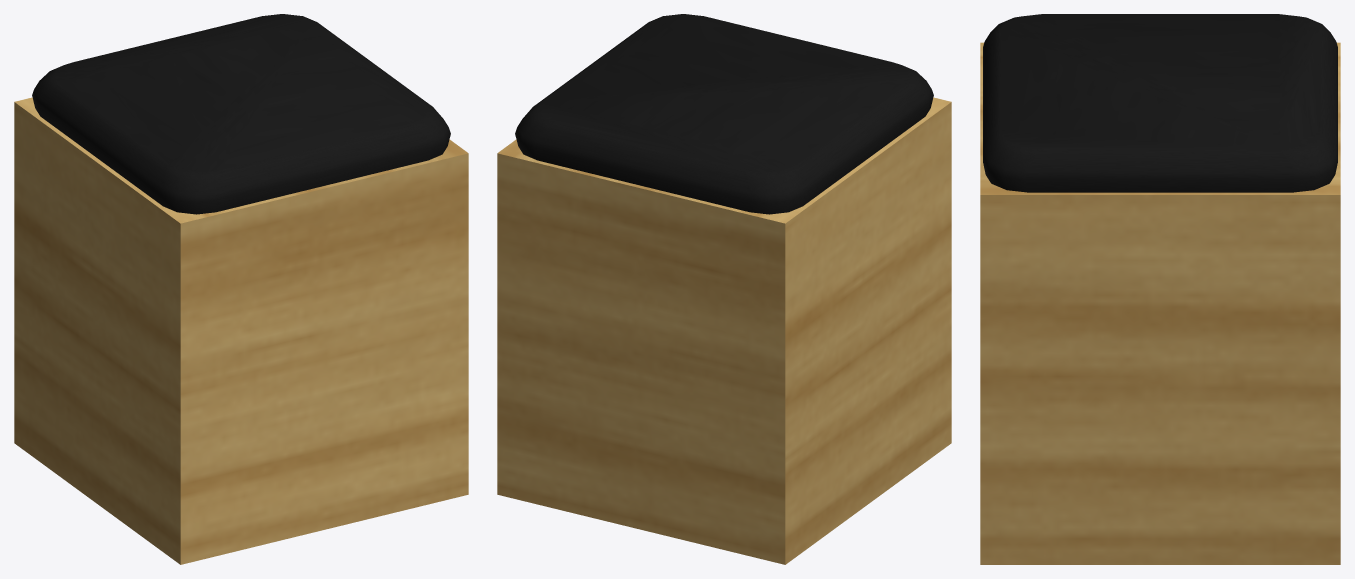
Rendered from SM_Puff.fbx.
3 renders of one model, left to right at view 1: azimuth 30°, elevation 25°; view 2: azimuth 150°, elevation 25°; view 3: azimuth 270°, elevation 25°, orthographic. The views are drawn at different scales.
Parts seen in each view (by area): view 1: SM_Puff; view 2: SM_Puff; view 3: SM_Puff.
Boxes of the visible parts, left/top/right/bottom form: SM_Puff: left=14, top=14, right=468, bottom=564; SM_Puff: left=497, top=14, right=951, bottom=564; SM_Puff: left=980, top=14, right=1340, bottom=564.
Size of the model in its own units: 34.95 by 43.57 by 34.95.
